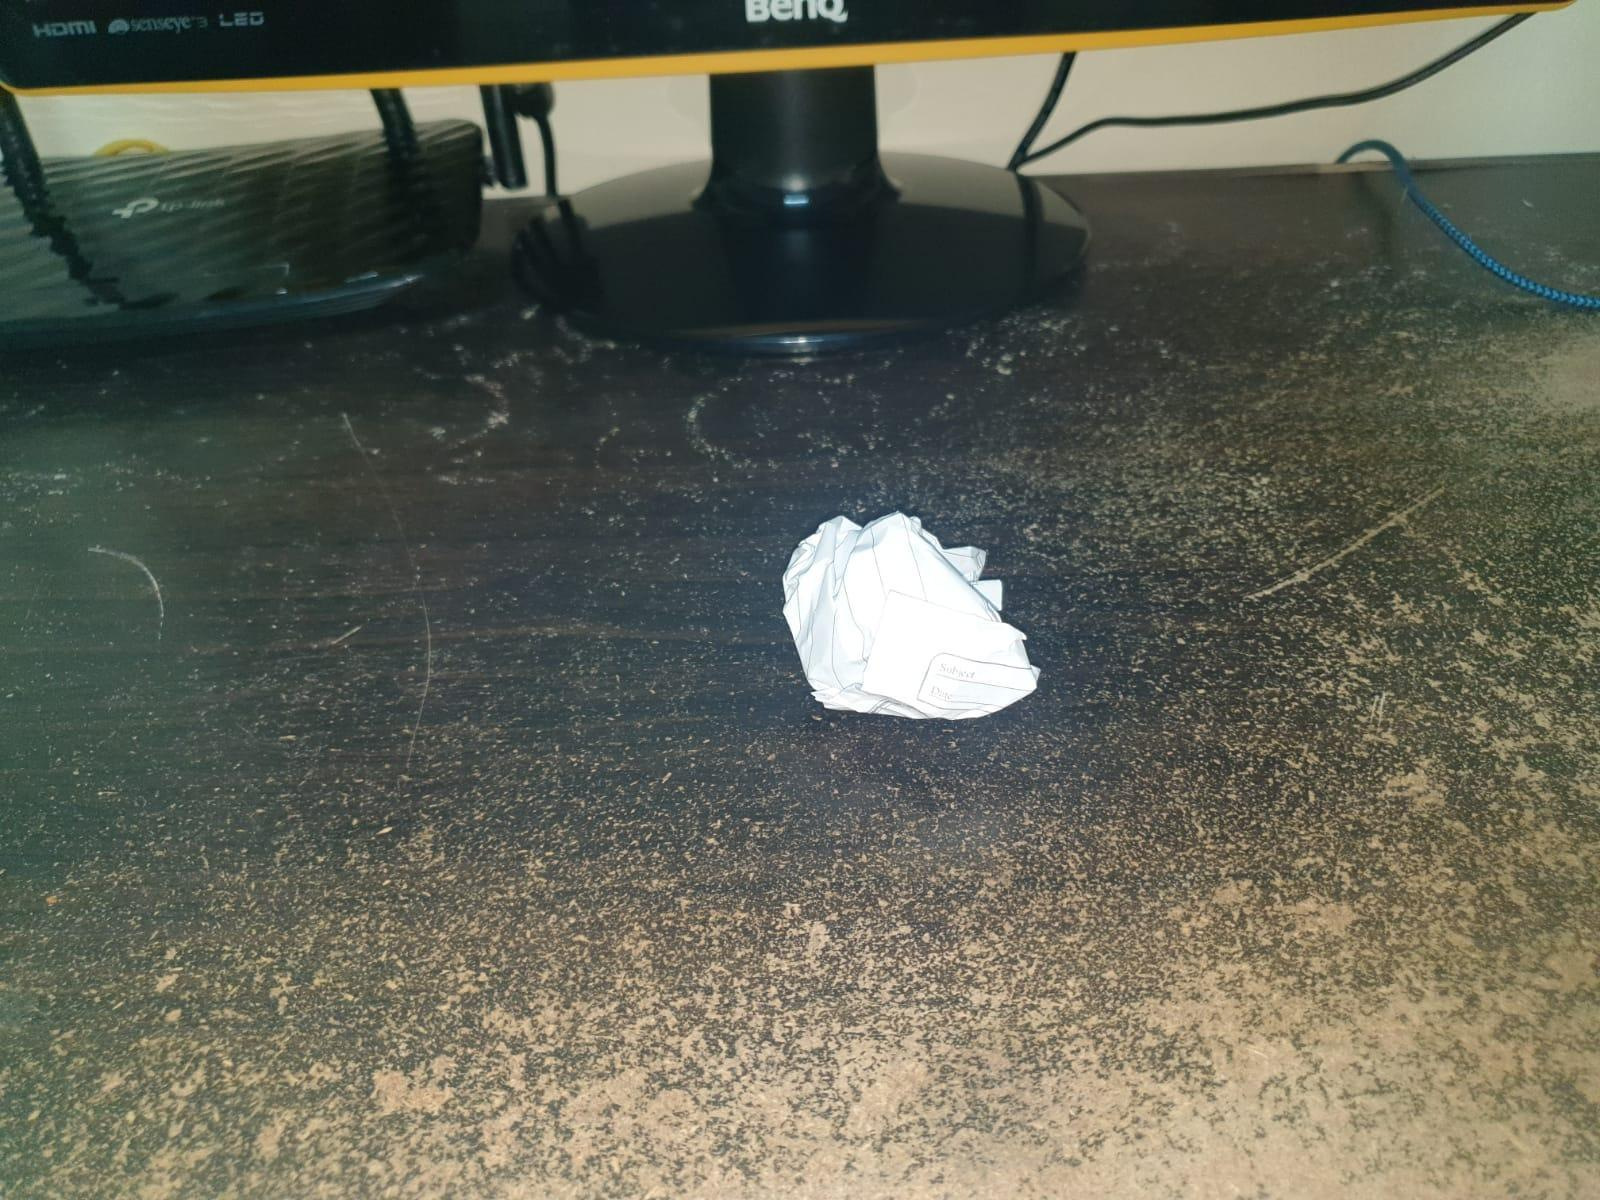Paper: (786, 511, 1053, 733)
